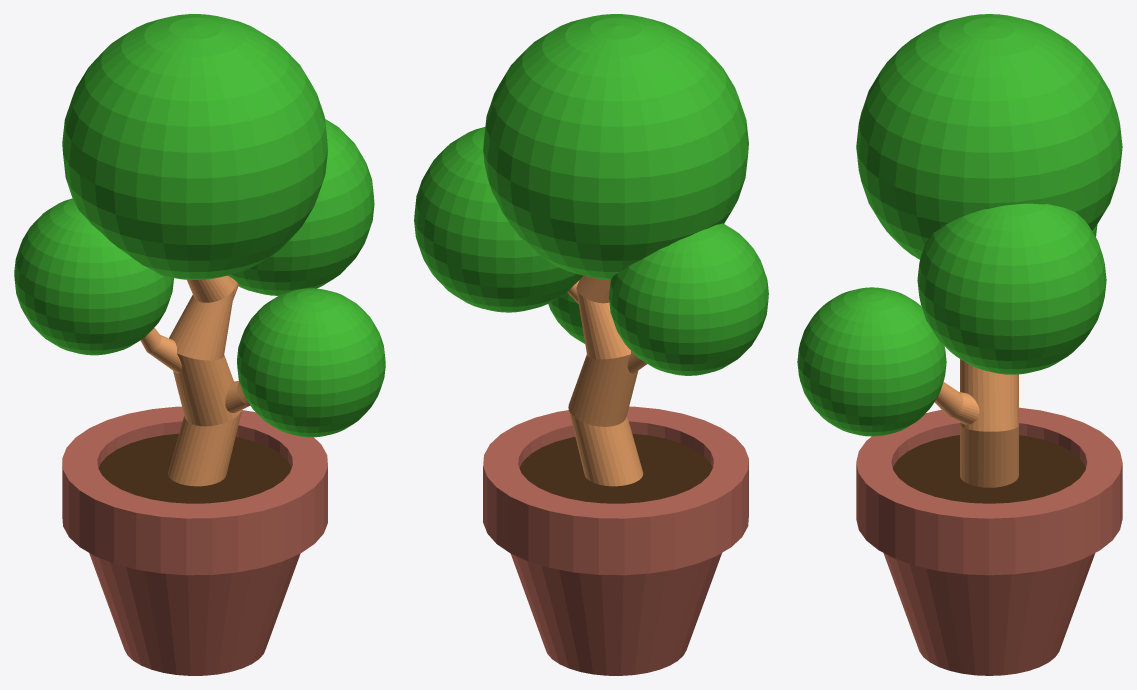
Rendered from Potteplant.fbx.
The picture shows the model from 3 angles, left to right: view 1: azimuth 30°, elevation 25°; view 2: azimuth 150°, elevation 25°; view 3: azimuth 270°, elevation 25°; orthographic projection.
Visible parts, largest first — view 1: Sphere.001, Cylinder, Sphere.003, Sphere, Cylinder.001, Sphere.002; view 2: Sphere.001, Cylinder, Sphere, Sphere.002, Cylinder.001, Sphere.003; view 3: Cylinder, Sphere.001, Sphere.002, Sphere.003, Cylinder.001.
Boxes of the visible parts, x1,y1,x2,y2 form: Sphere.001: (62,14,327,279); Cylinder: (62,406,327,675); Sphere.003: (237,288,385,437); Sphere: (14,198,173,355); Cylinder.001: (140,275,250,486); Sphere.002: (228,119,374,295); Sphere.001: (483,14,748,279); Cylinder: (483,406,748,675); Sphere: (609,223,768,375); Sphere.002: (414,127,583,312); Cylinder.001: (567,275,646,486); Sphere.003: (548,292,585,343); Cylinder: (856,407,1122,675); Sphere.001: (856,14,1122,259); Sphere.002: (917,203,1106,374); Sphere.003: (797,287,946,436); Cylinder.001: (934,359,1018,487).
Bounding box in the file's own units: 290 × 513 × 244.
